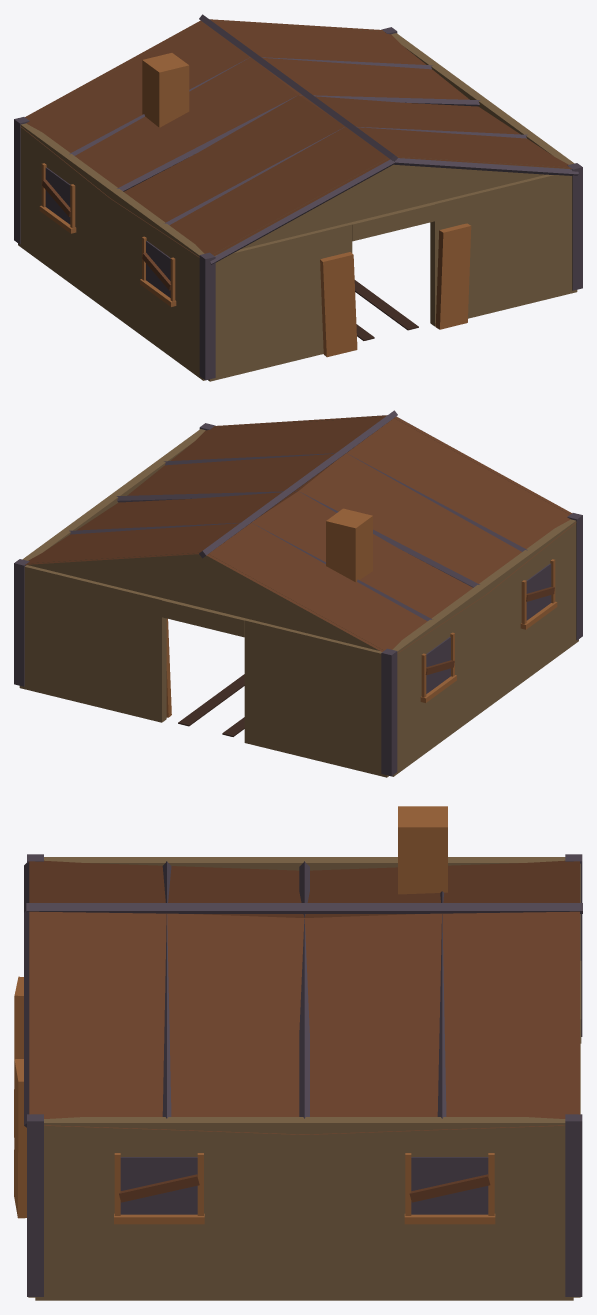
The picture shows the model from 3 angles, top to bottom: view 1: azimuth 30°, elevation 25°; view 2: azimuth 150°, elevation 25°; view 3: azimuth 270°, elevation 25°; orthographic projection. The views are drawn at different scales.
Visible parts, largest first — view 1: body; view 2: body; view 3: body.
Boxes of the visible parts, <box> form: body: <box>14,14,582,381</box>; body: <box>14,410,582,777</box>; body: <box>14,806,582,1300</box>.
Bounding box in the file's own units: 8.41 × 4.11 × 7.4.
